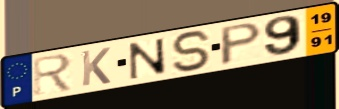9: (263, 14, 307, 59)
K: (80, 45, 113, 88)
N: (127, 37, 170, 81)
P: (218, 21, 264, 68)
R: (31, 52, 76, 97)
S: (169, 29, 214, 73)
